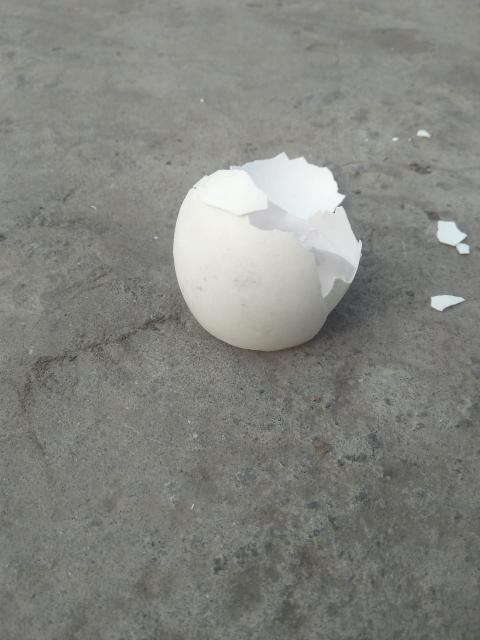Roto: (172, 151, 362, 352)
